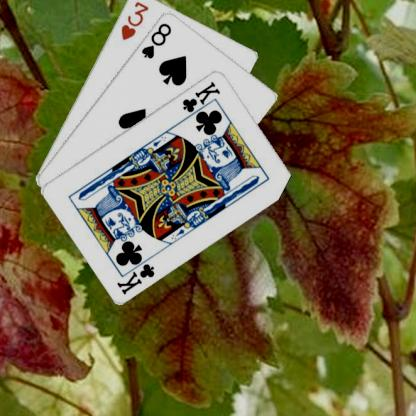3H: (117, 0, 150, 41)
8S: (138, 19, 173, 60)
KC: (180, 78, 222, 121), (115, 252, 156, 295)
